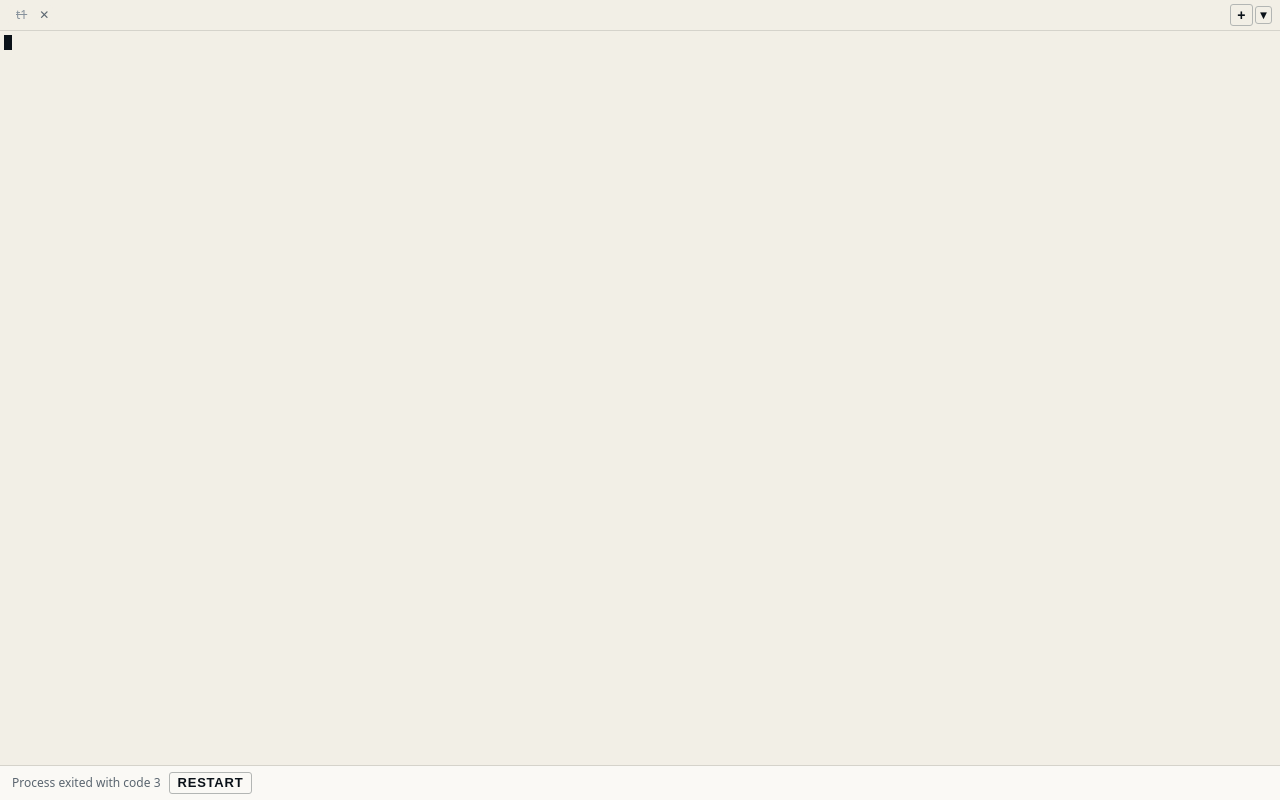
Scenario: TerminalTab › shows the exited state, and Restart starts it again
Expected: the element with test id "terminal-exited" shows "Process exited with code 3", [0,765,1279,799]
Click the button "Restart" at {"x": 210, "y": 783}, box [168,772,252,794]
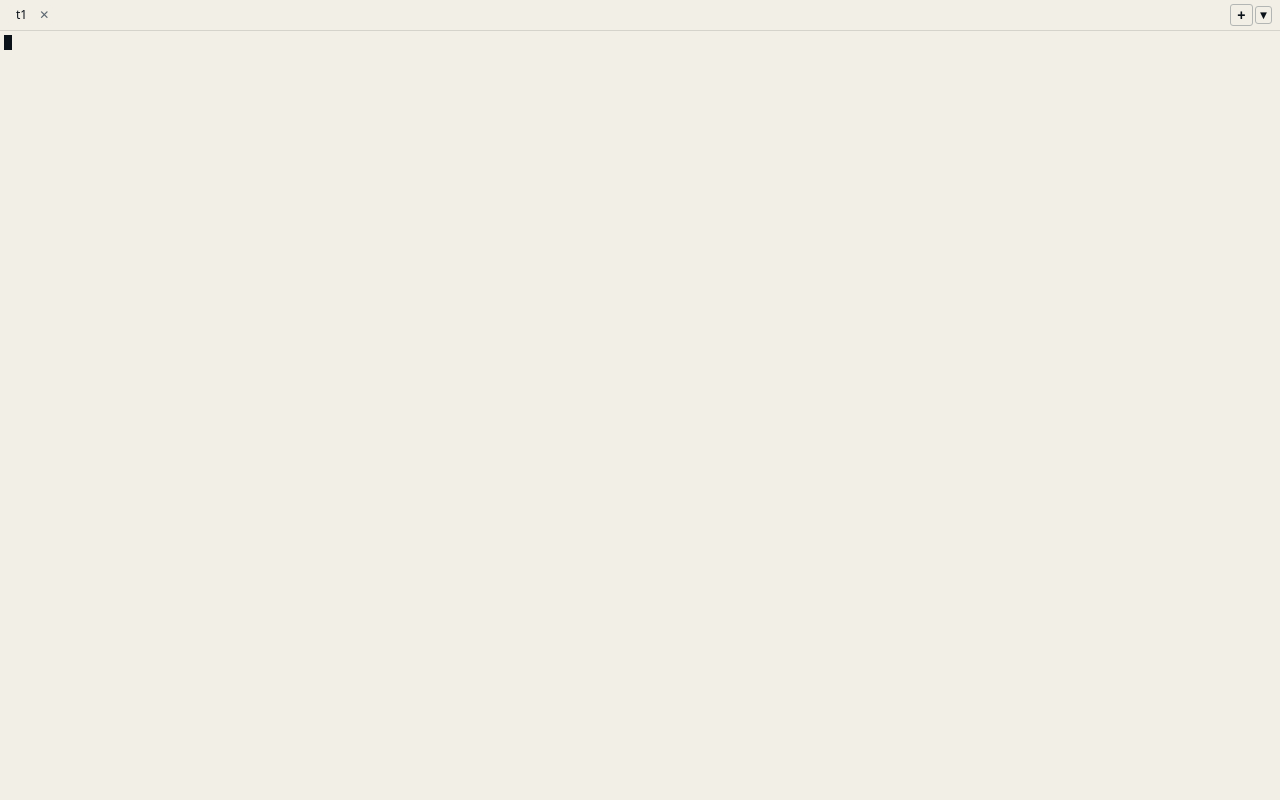
Expected: the element with test id "terminal-exited" is gone
